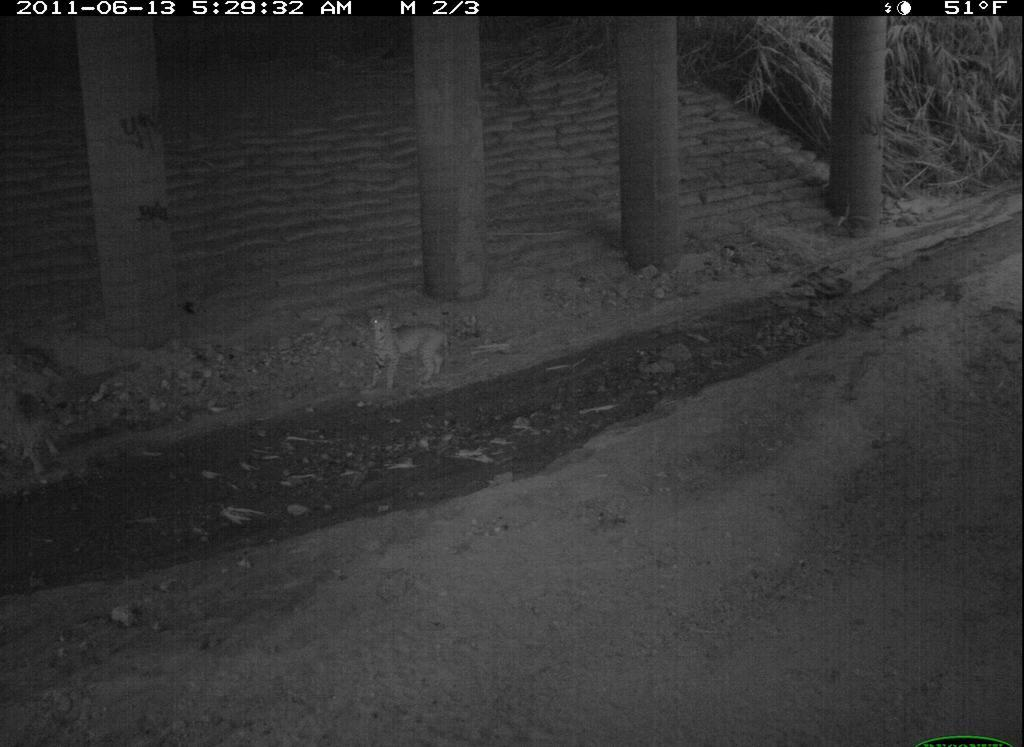bobcat: (725, 605, 907, 747)
